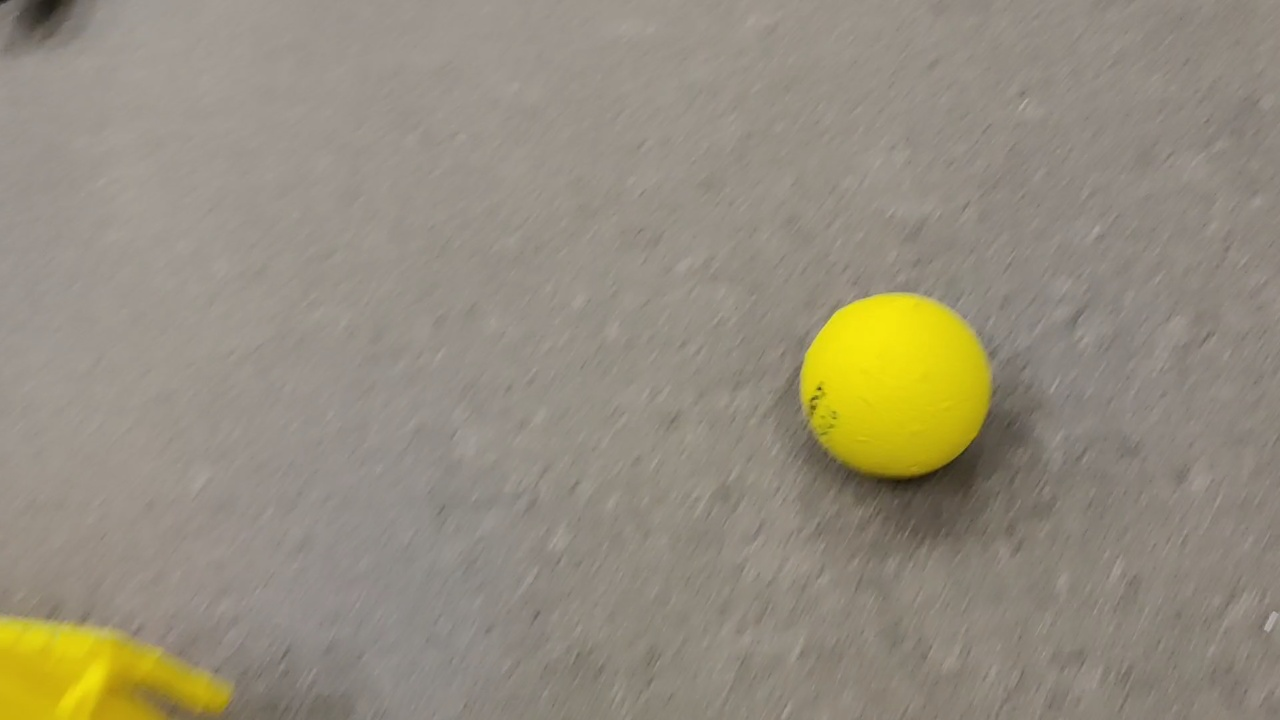Ball: (799, 291, 993, 480)
